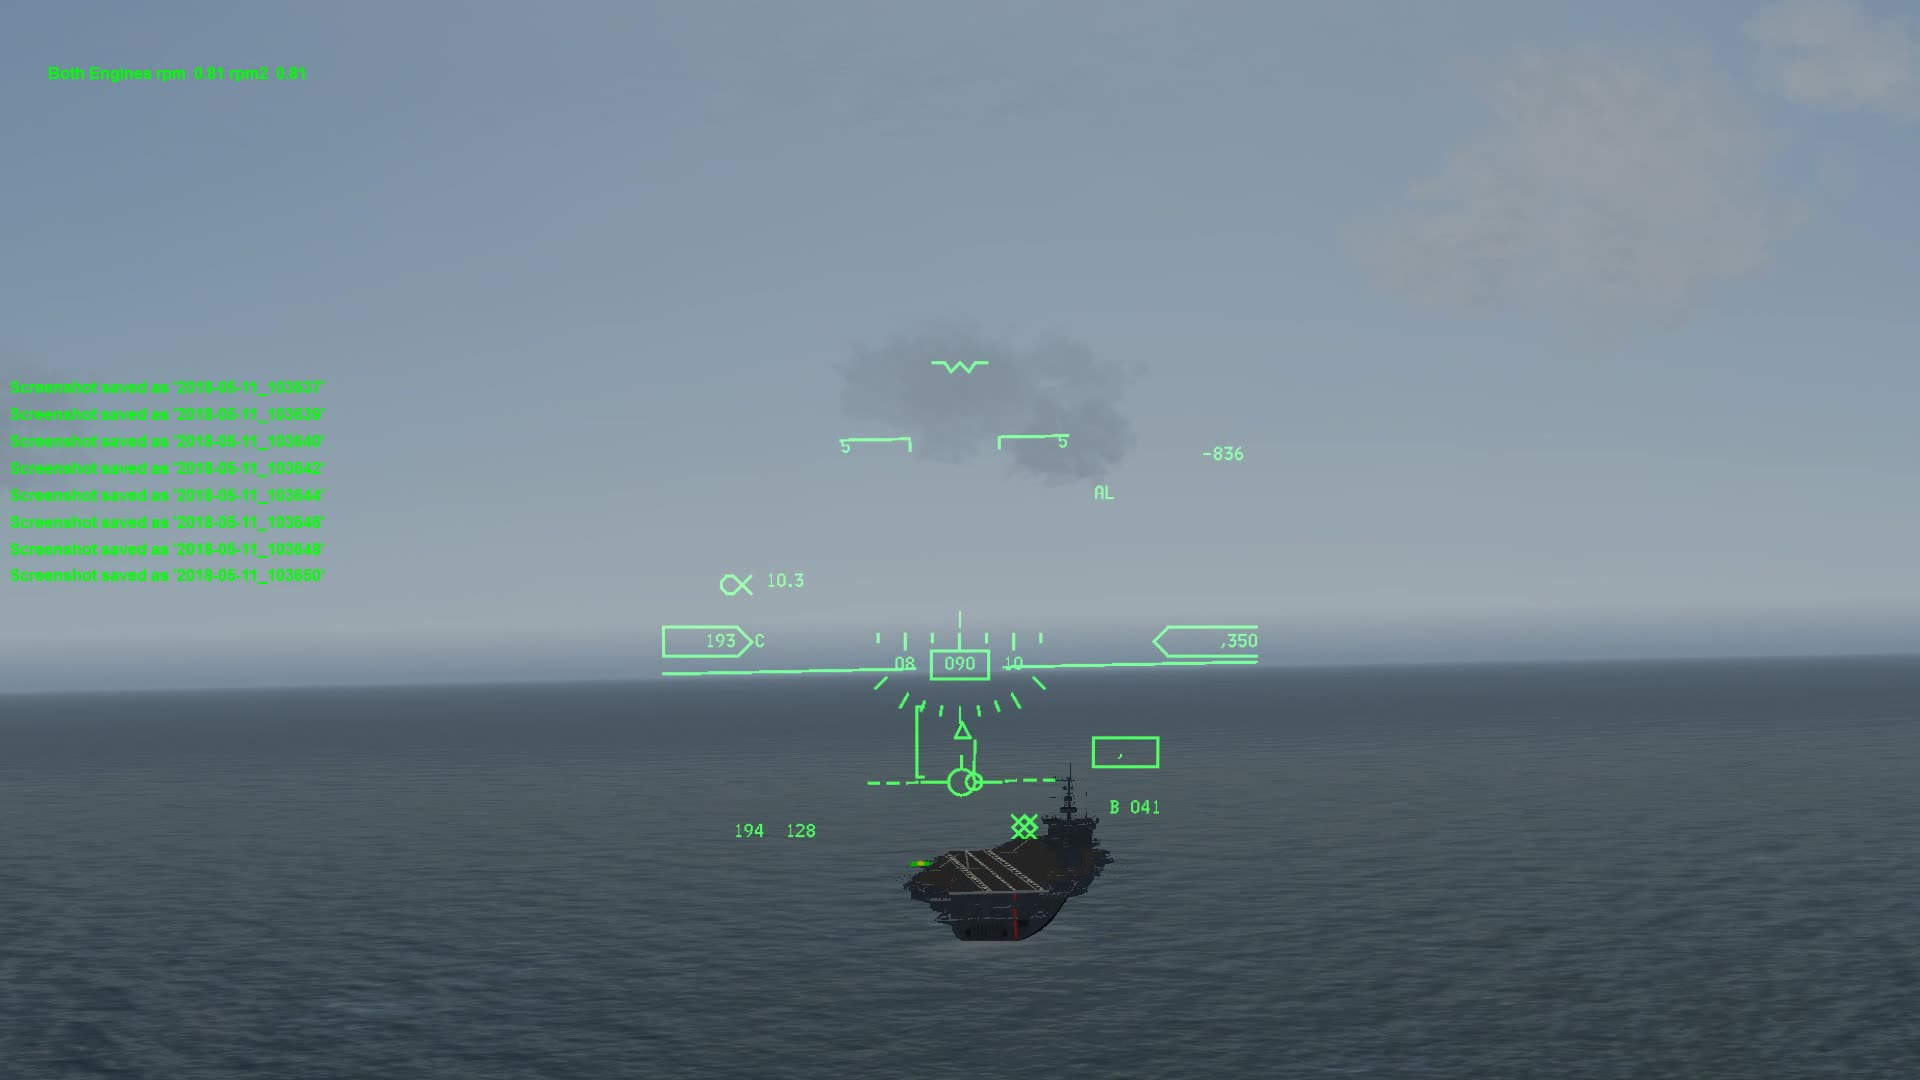speed vector: (918, 752, 998, 803)
